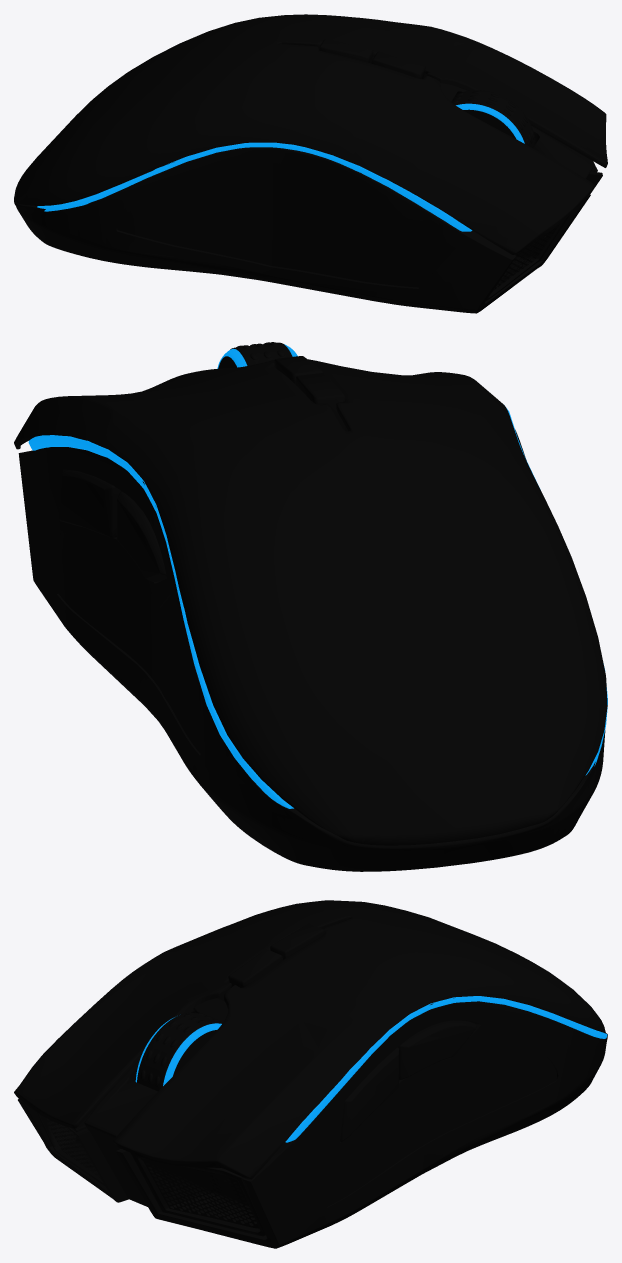
Rendered from Mouse_Mamba_Station.glb.
3 views of the same model, one above another, from view 1: azimuth 30°, elevation 25°; view 2: azimuth 150°, elevation 25°; view 3: azimuth 270°, elevation 25° (orthographic). The views are drawn at different scales.
Parts seen in each view (by area): view 1: Mouse_Mamba_StationOne_LOD0; view 2: Mouse_Mamba_StationOne_LOD0; view 3: Mouse_Mamba_StationOne_LOD0.
Part boxes in pixels (<box>): Mouse_Mamba_StationOne_LOD0: <box>14,14,607,313</box>; Mouse_Mamba_StationOne_LOD0: <box>14,342,607,871</box>; Mouse_Mamba_StationOne_LOD0: <box>14,900,607,1248</box>.
Size of what is drawn, in the model's own units: 0.1408 by 0.0551 by 0.1401.
